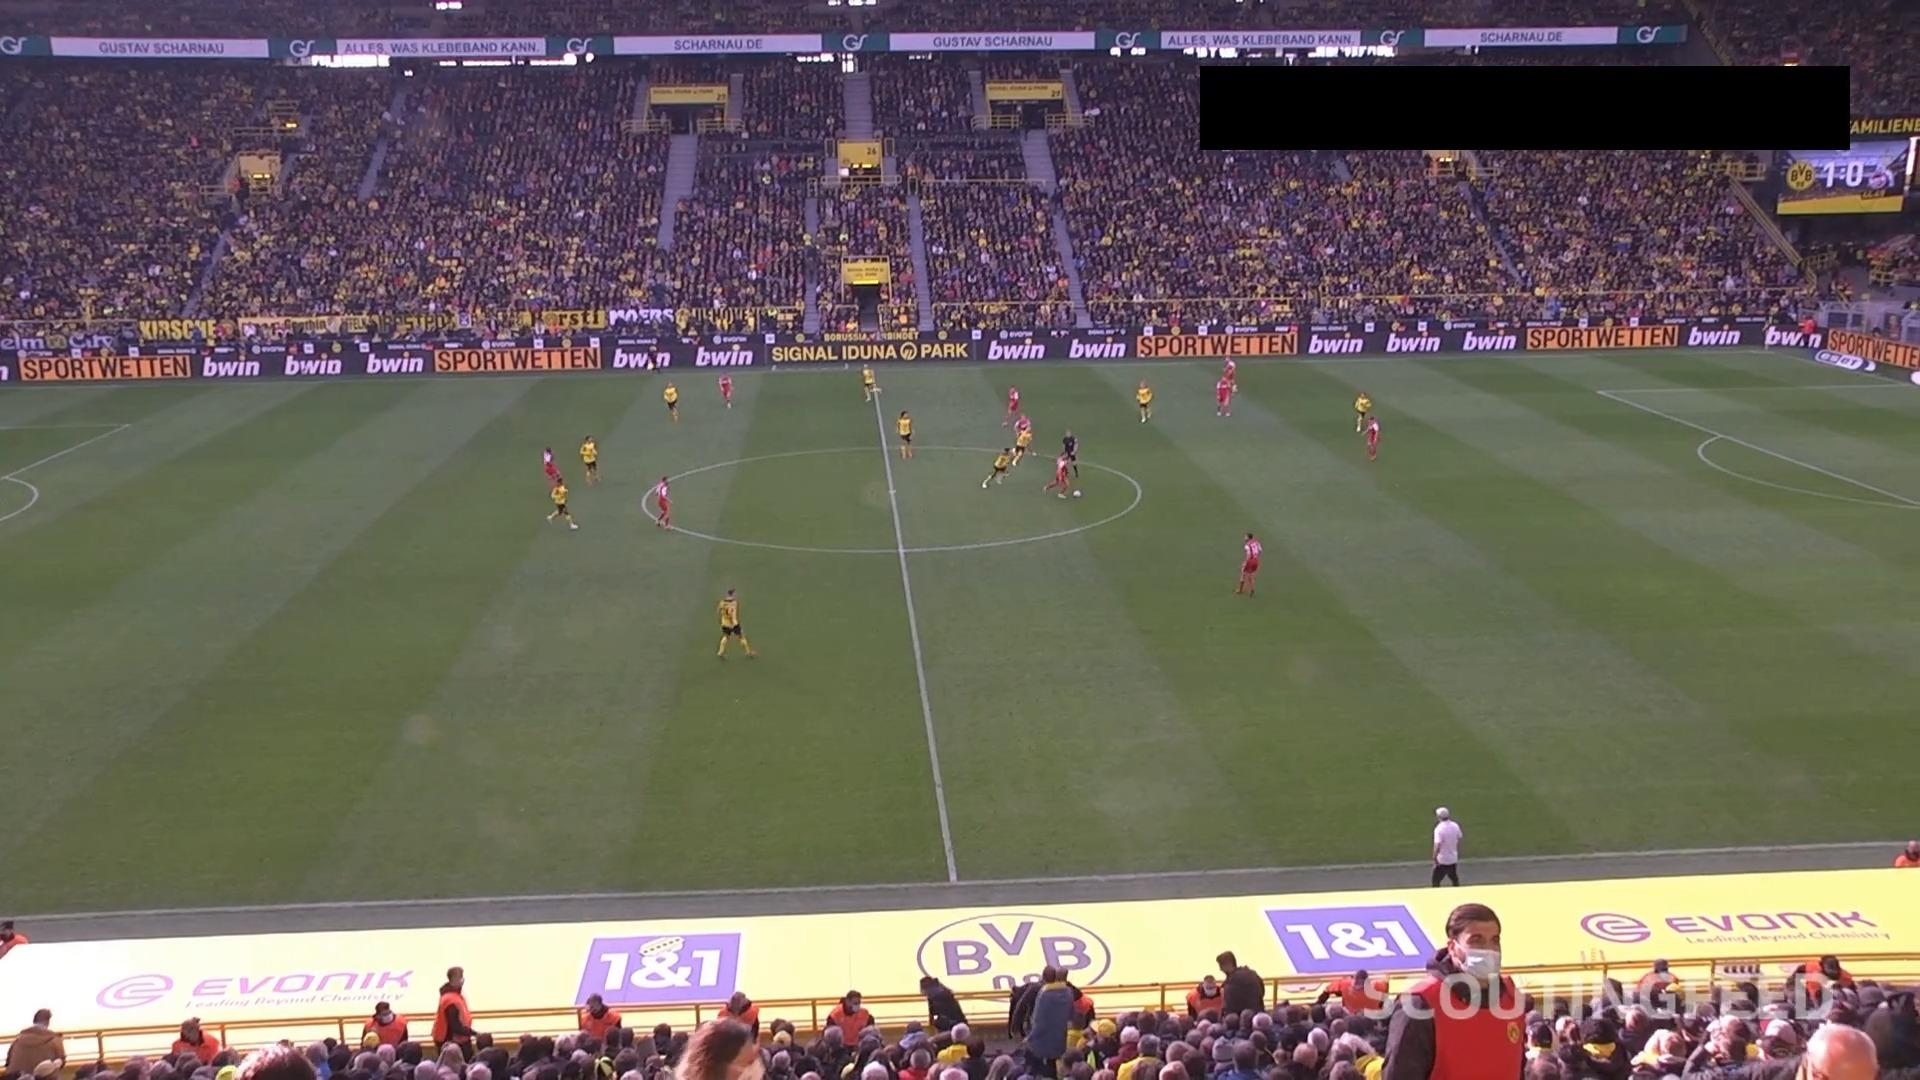ball: (1070, 488, 1084, 502)
coach: (1430, 805, 1462, 886)
fan: (1380, 902, 1530, 1078), (1007, 966, 1094, 1044), (1215, 949, 1264, 1016), (918, 974, 967, 1032), (1006, 971, 1044, 1041)
player: (714, 587, 755, 659), (1043, 450, 1081, 498), (1234, 531, 1261, 596), (546, 478, 578, 530), (979, 444, 1015, 489), (1010, 413, 1035, 463), (578, 434, 599, 484), (653, 475, 672, 528), (1213, 375, 1237, 416), (895, 409, 913, 459), (1352, 390, 1371, 432), (1014, 414, 1034, 453), (1363, 415, 1380, 460), (1135, 381, 1153, 423), (1002, 384, 1019, 427), (541, 446, 560, 483), (662, 382, 679, 421), (1222, 356, 1239, 393), (860, 364, 876, 402), (717, 373, 733, 408)
referee: (1058, 429, 1083, 479), (646, 346, 663, 375)
